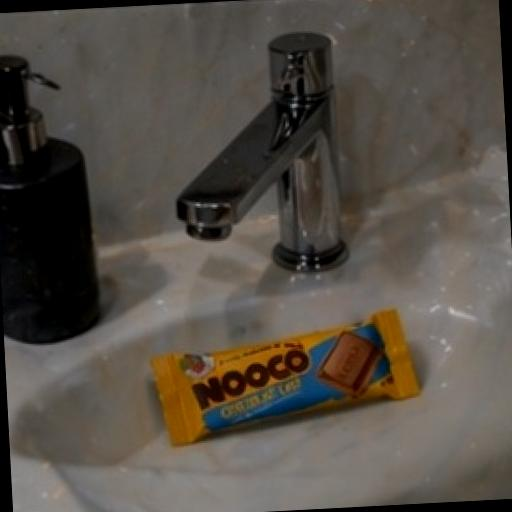biscuit-detection: (114, 286, 444, 466)
